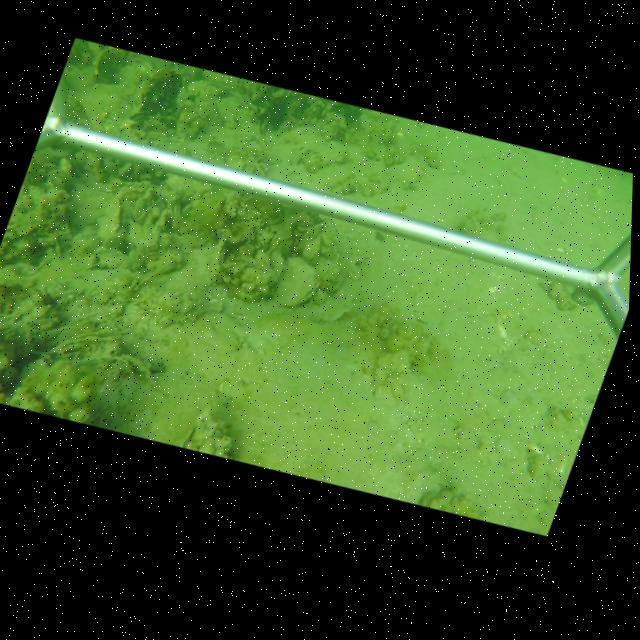Oyster-Closed: (273, 256, 321, 310), (189, 236, 226, 294), (97, 191, 126, 239), (321, 217, 339, 251)
